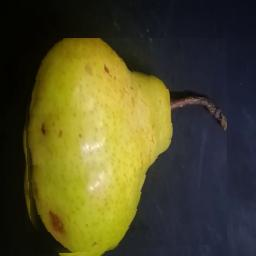Pear Semirotten: (21, 39, 228, 256)
